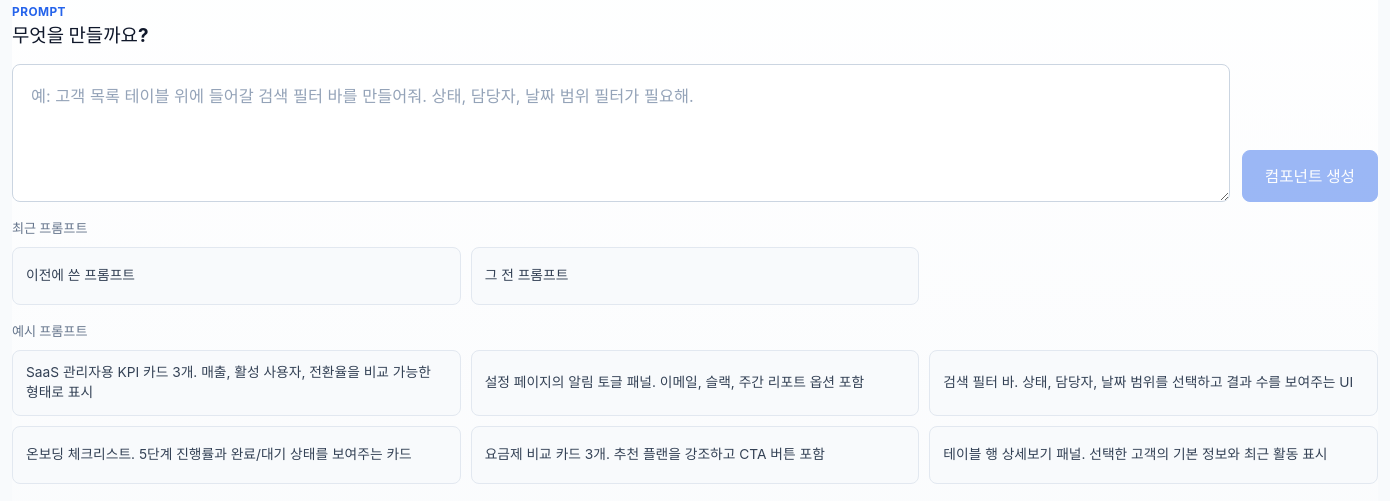
Test case: PromptInput › 히스토리가 있으면 최근 프롬프트 칩을 보여주고, 클릭하면 입력창에 채워진다
Expected: the text "최근 프롬프트" is shown, 12,220 -> 88,236
Click the button "이전에 쓴 프롬프트": {"x": 80, "y": 275} 12,247 -> 461,305
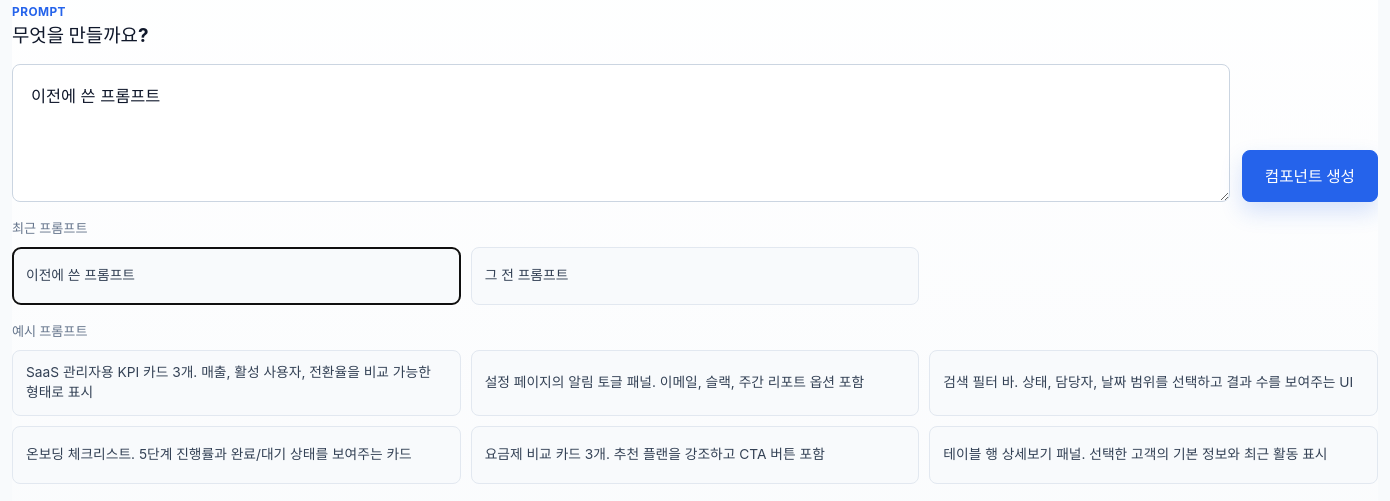
Expected: the text box holds "이전에 쓴 프롬프트", 12,64 -> 1230,202
